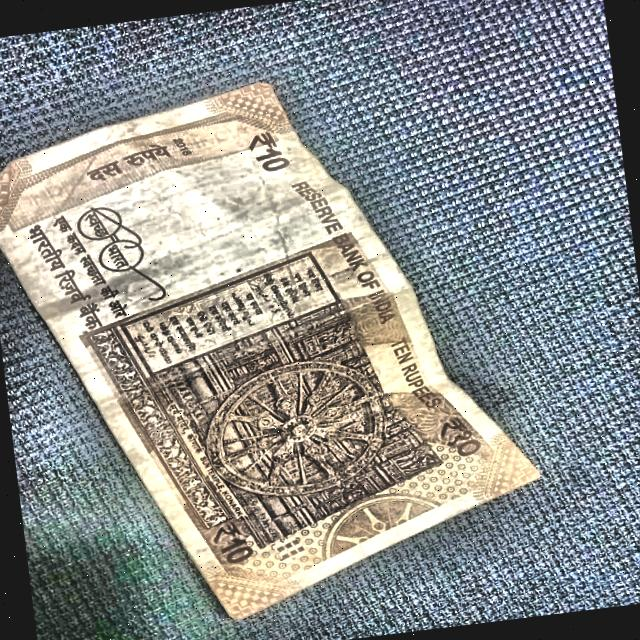-10-: (0, 30, 603, 640)
